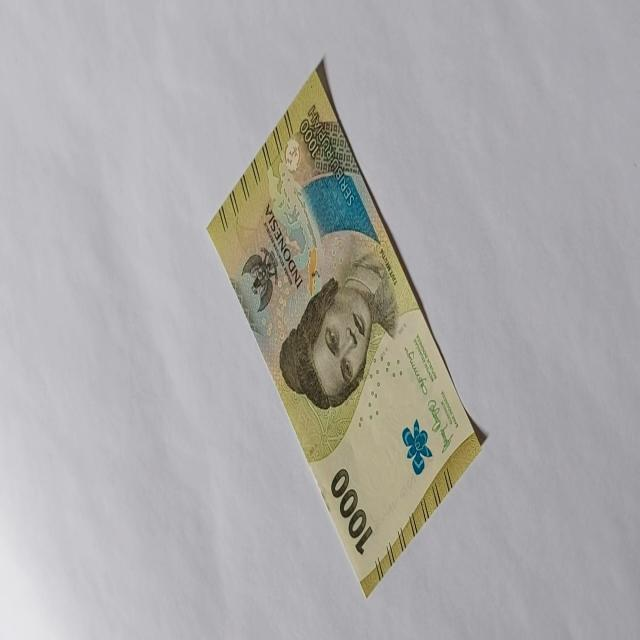seribu rupiah kertas: (205, 58, 483, 600)
